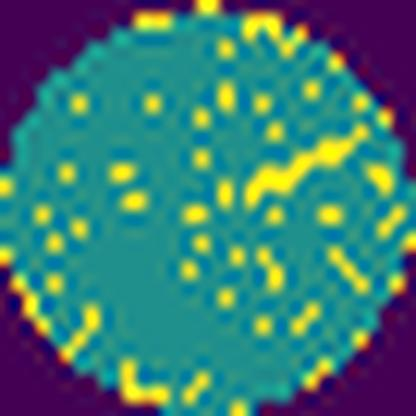Scratch: (241, 122, 371, 212)
